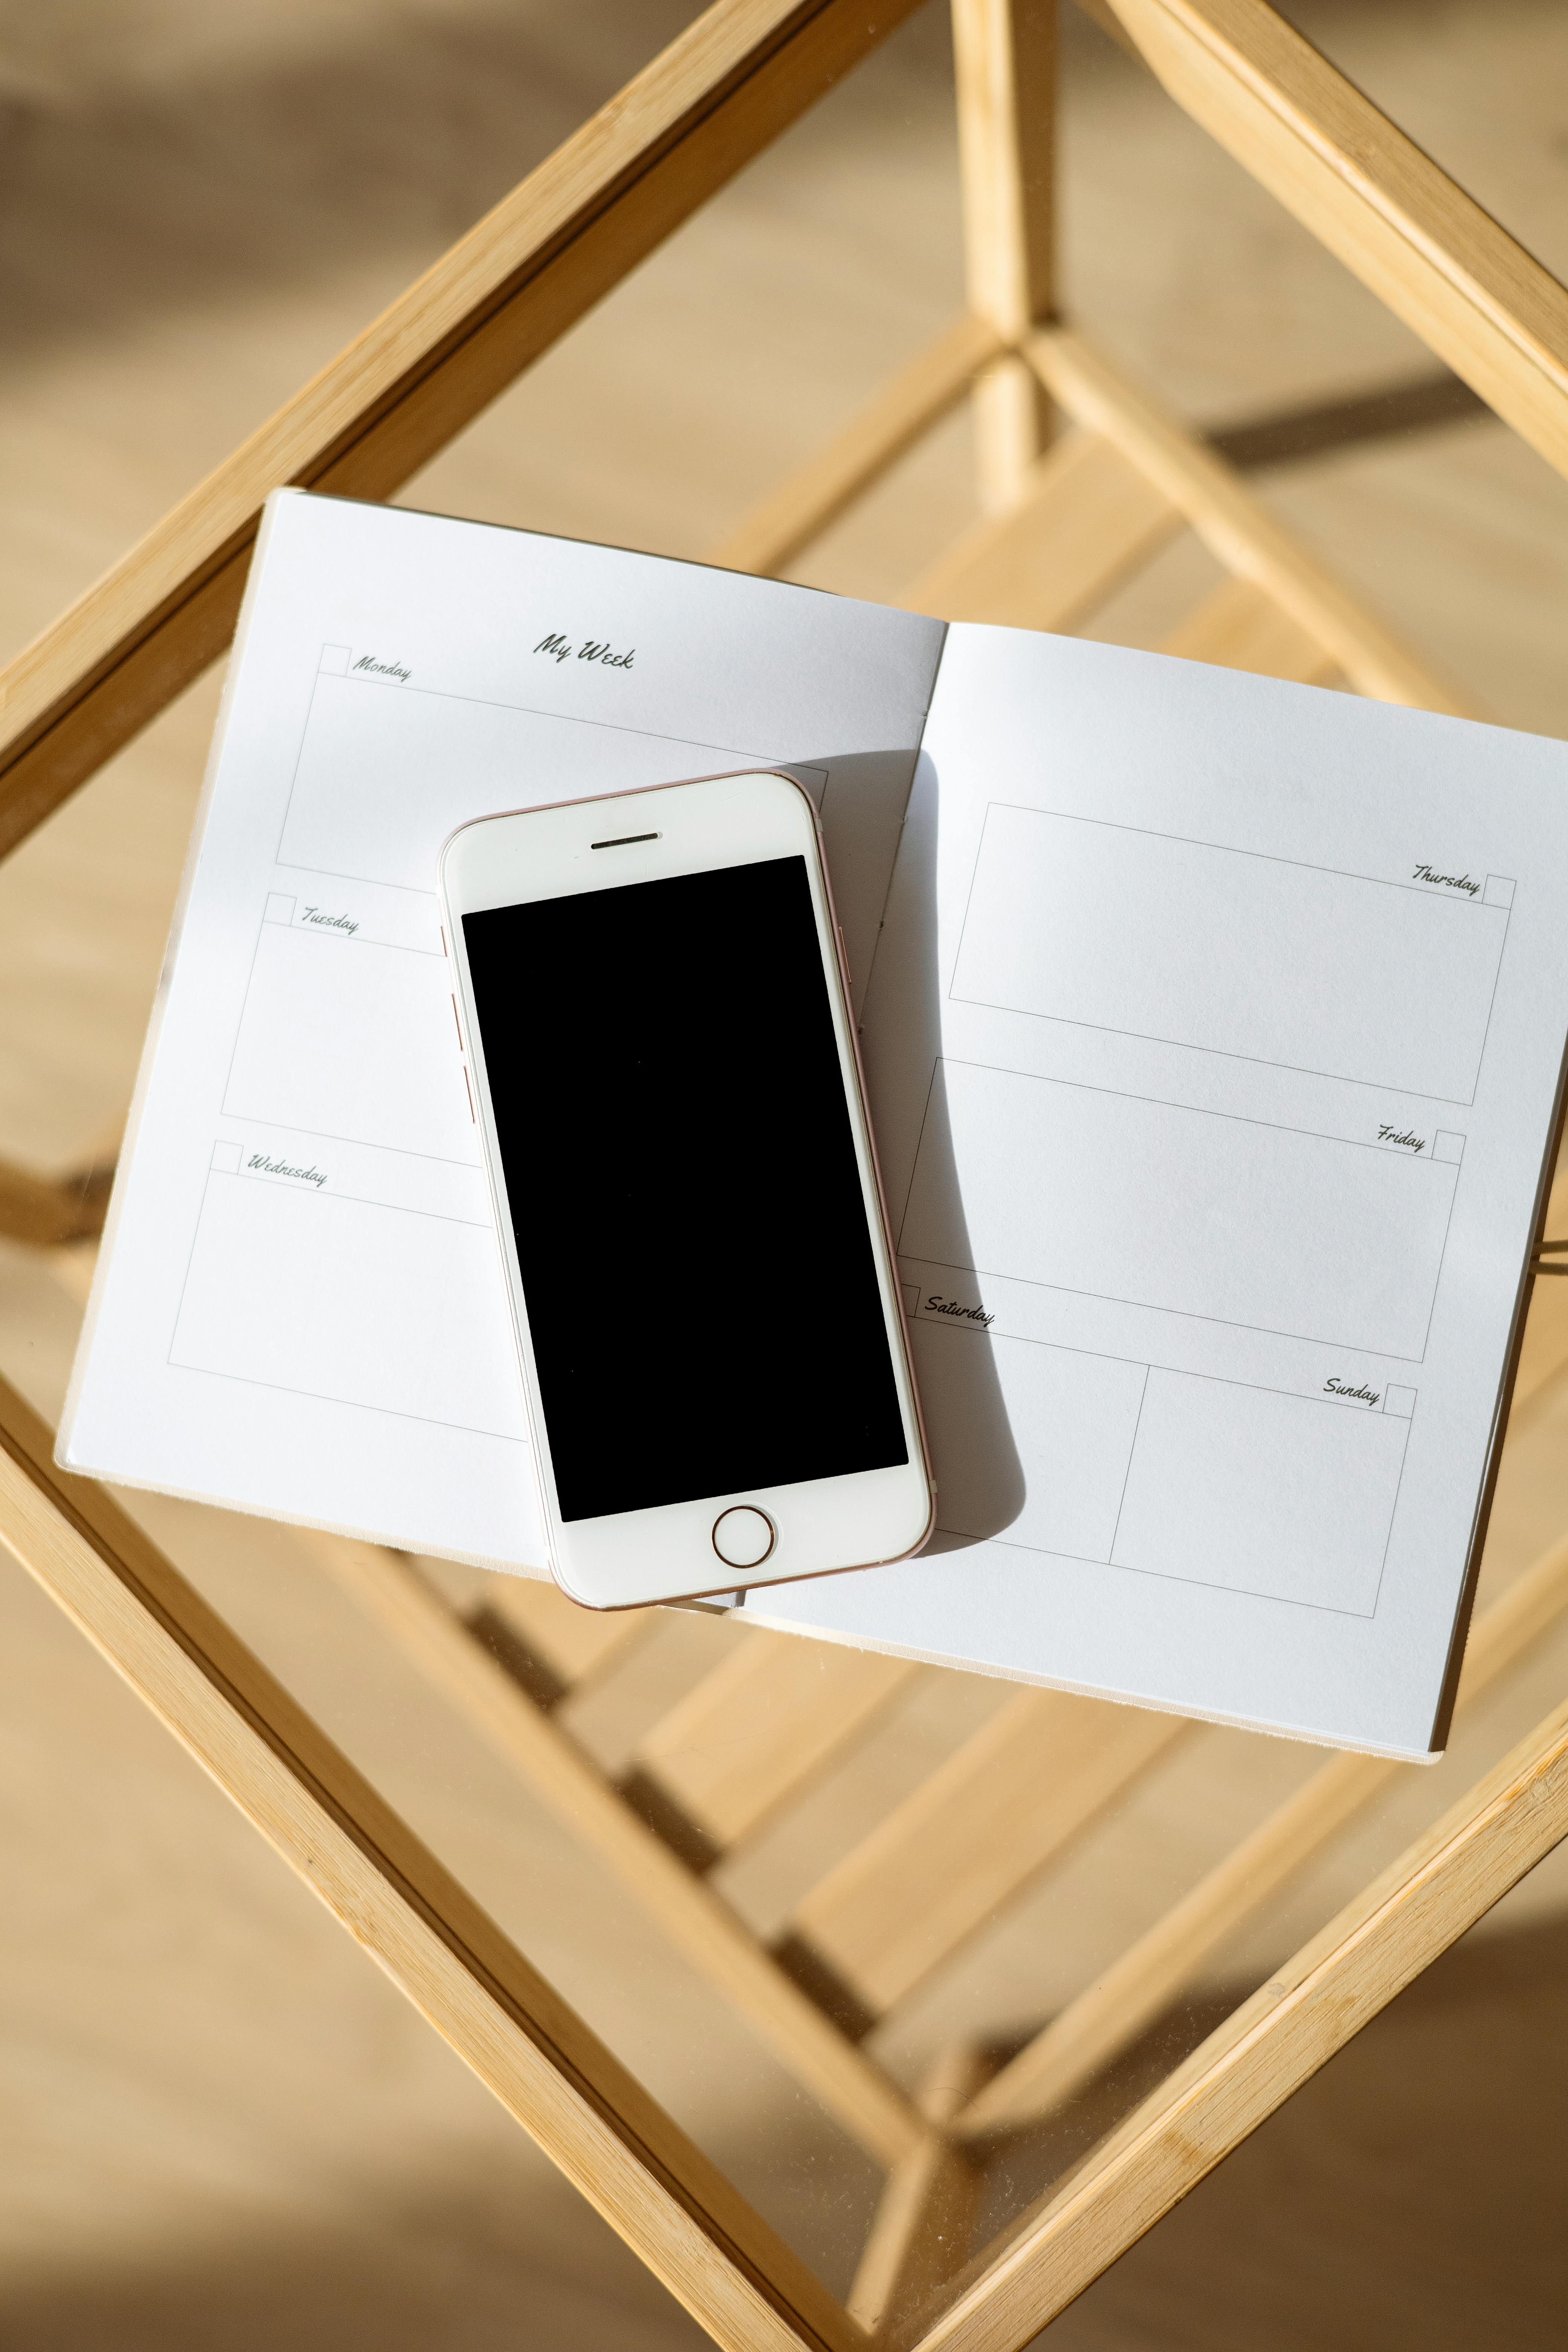p6: (425, 760, 1013, 1634)
